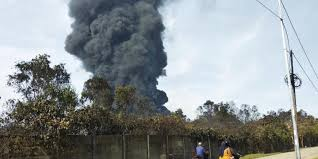smoke: (66, 2, 165, 82)
